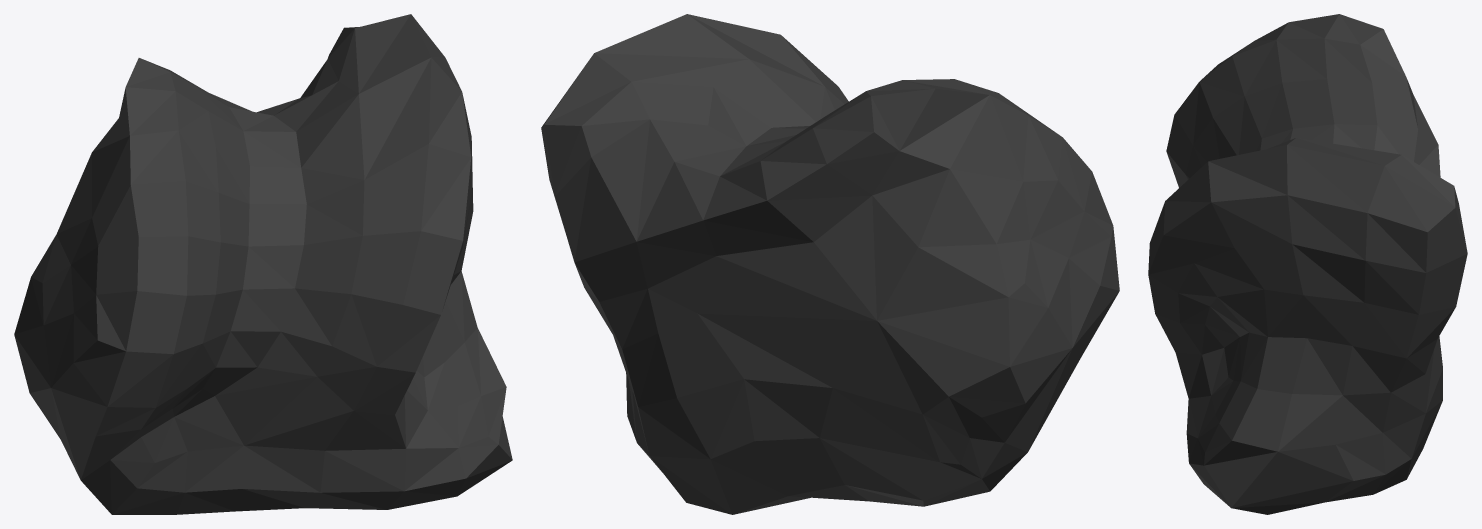
Rendered from RHL_tarsus1.glb.
3 views of the same model, side by side, from view 1: azimuth 30°, elevation 25°; view 2: azimuth 150°, elevation 25°; view 3: azimuth 270°, elevation 25° (orthographic). The views are drawn at different scales.
Parts seen in each view (by area): view 1: RHL_tarsus1; view 2: RHL_tarsus1; view 3: RHL_tarsus1.
Boxes of the visible parts, left/top/right/bottom form: RHL_tarsus1: left=14, top=14, right=512, bottom=514; RHL_tarsus1: left=541, top=14, right=1119, bottom=514; RHL_tarsus1: left=1148, top=14, right=1467, bottom=514.
Bounding box in the file's own units: 14.85 × 13.95 × 10.52.
Materials: 1 (1 with a texture image).
